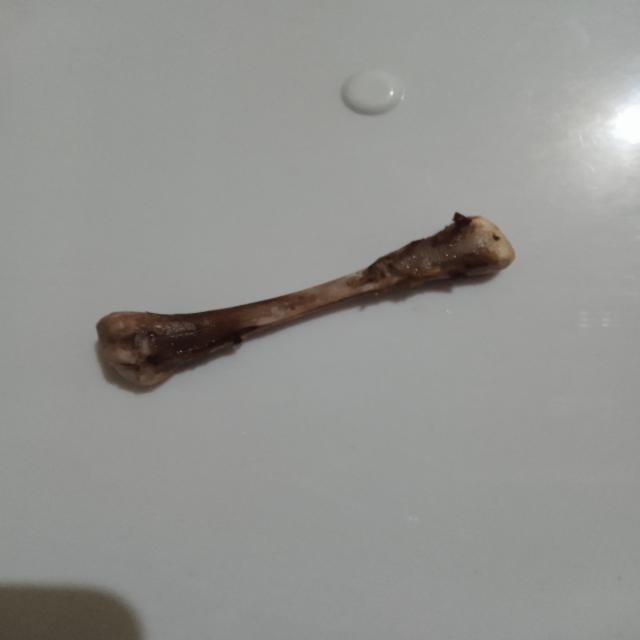bone: (89, 208, 524, 392)
